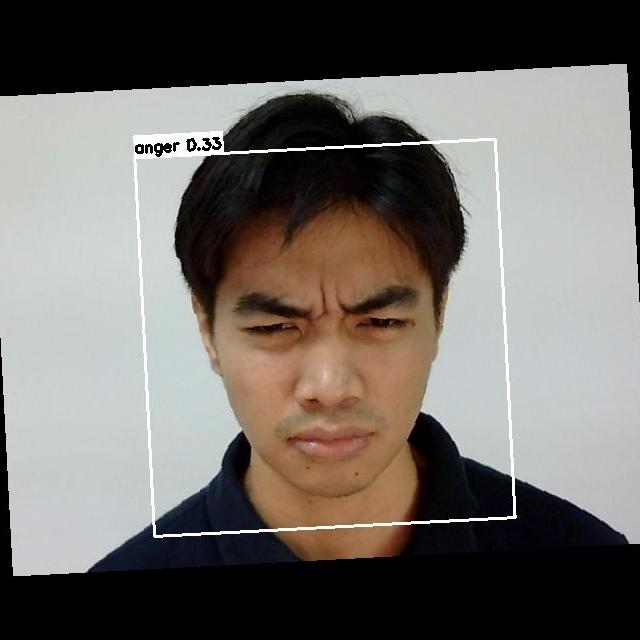Angry: (202, 256, 459, 484)
